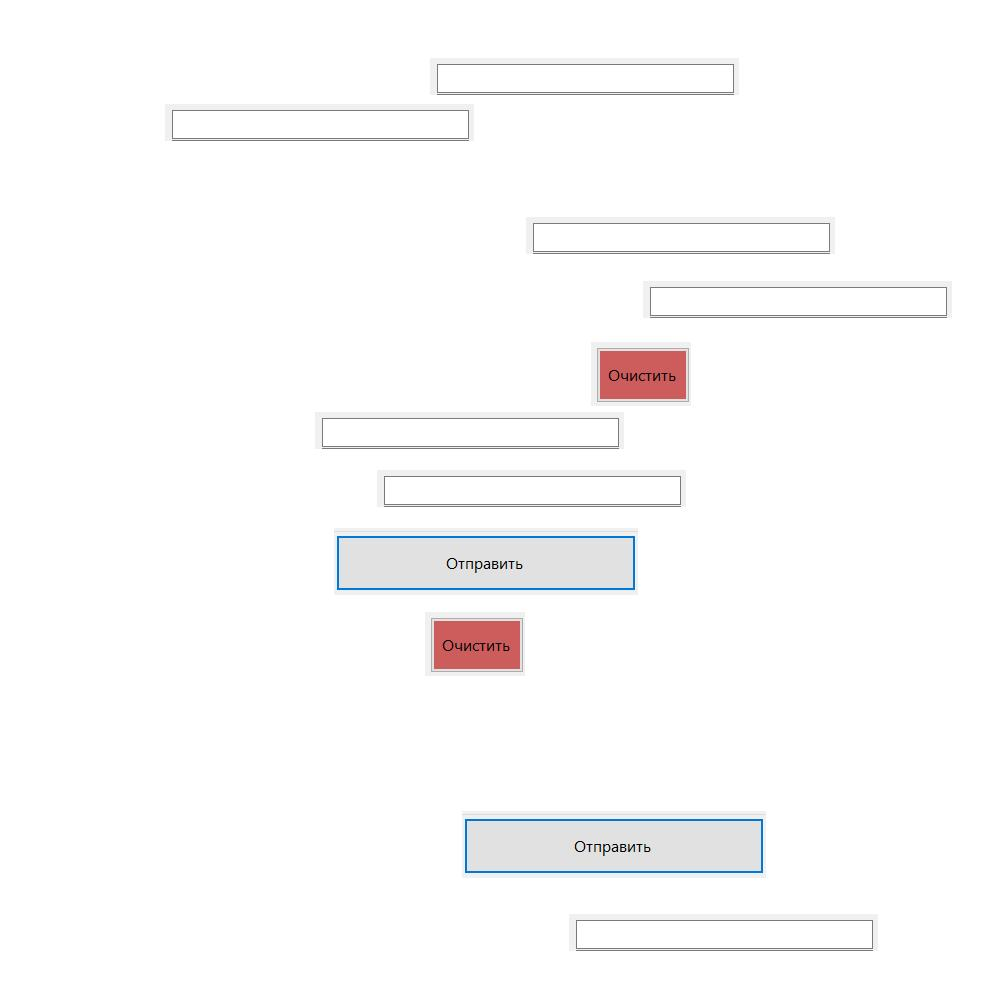Button: (462, 811, 766, 878), (334, 528, 638, 595), (425, 612, 525, 676), (591, 342, 691, 406)
EditText-: (165, 104, 474, 141), (643, 281, 952, 318), (526, 217, 835, 254), (569, 914, 878, 951), (377, 470, 686, 507), (430, 58, 739, 95), (315, 412, 624, 449)
